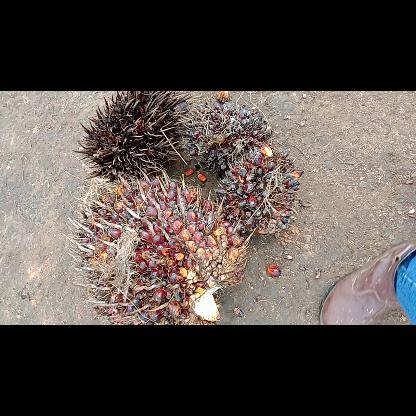Janjang kosong: (70, 90, 194, 182)
TBS abnormal: (213, 140, 305, 236), (173, 95, 274, 176)
TBS masak: (64, 172, 252, 324)
